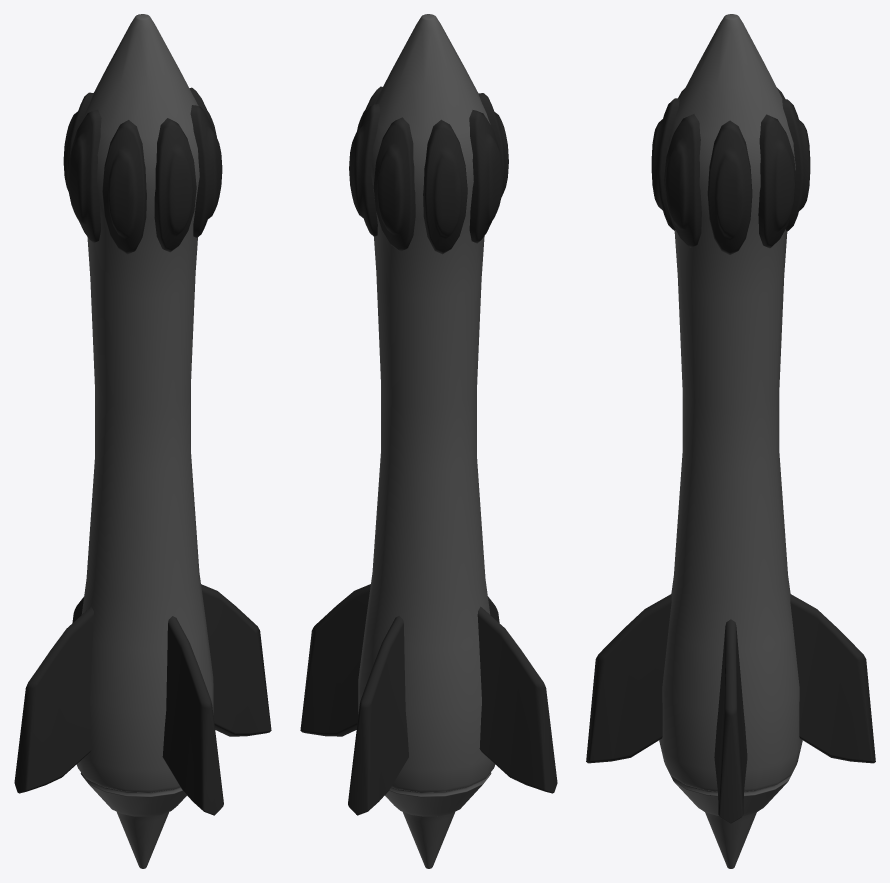
File: Rocket2.glb
3 views of the same model, side by side, from view 1: azimuth 30°, elevation 25°; view 2: azimuth 150°, elevation 25°; view 3: azimuth 270°, elevation 25° (orthographic).
Visible parts, largest first — view 1: Rocket_04; view 2: Rocket_04; view 3: Rocket_04.
Boxes of the visible parts, box(x1,y1,x2,y2) form: Rocket_04: box(14, 14, 271, 868); Rocket_04: box(300, 14, 557, 868); Rocket_04: box(586, 14, 875, 868).
Bounding box in the file's own units: 0.7099 × 2.3 × 0.7099.
Materials: 1 (1 with a texture image).
